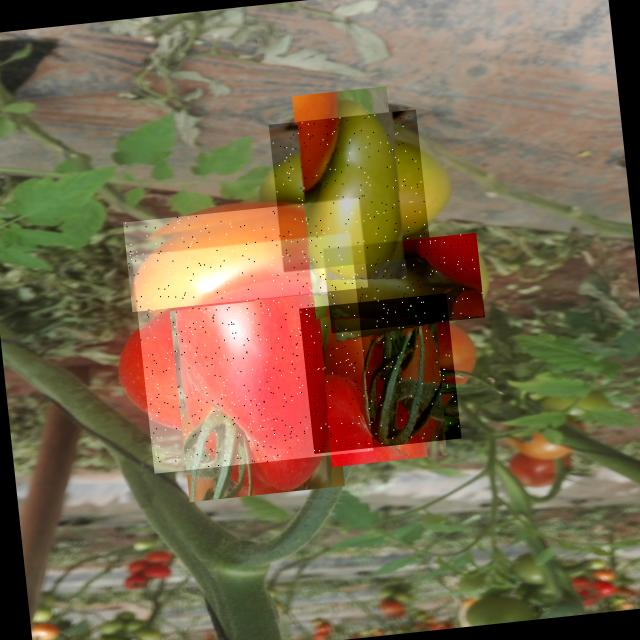Ripe Tomato: (131, 232, 373, 473)
Unripe Tomato: (122, 198, 368, 312), (268, 108, 431, 272), (299, 292, 461, 453), (322, 232, 484, 333)
